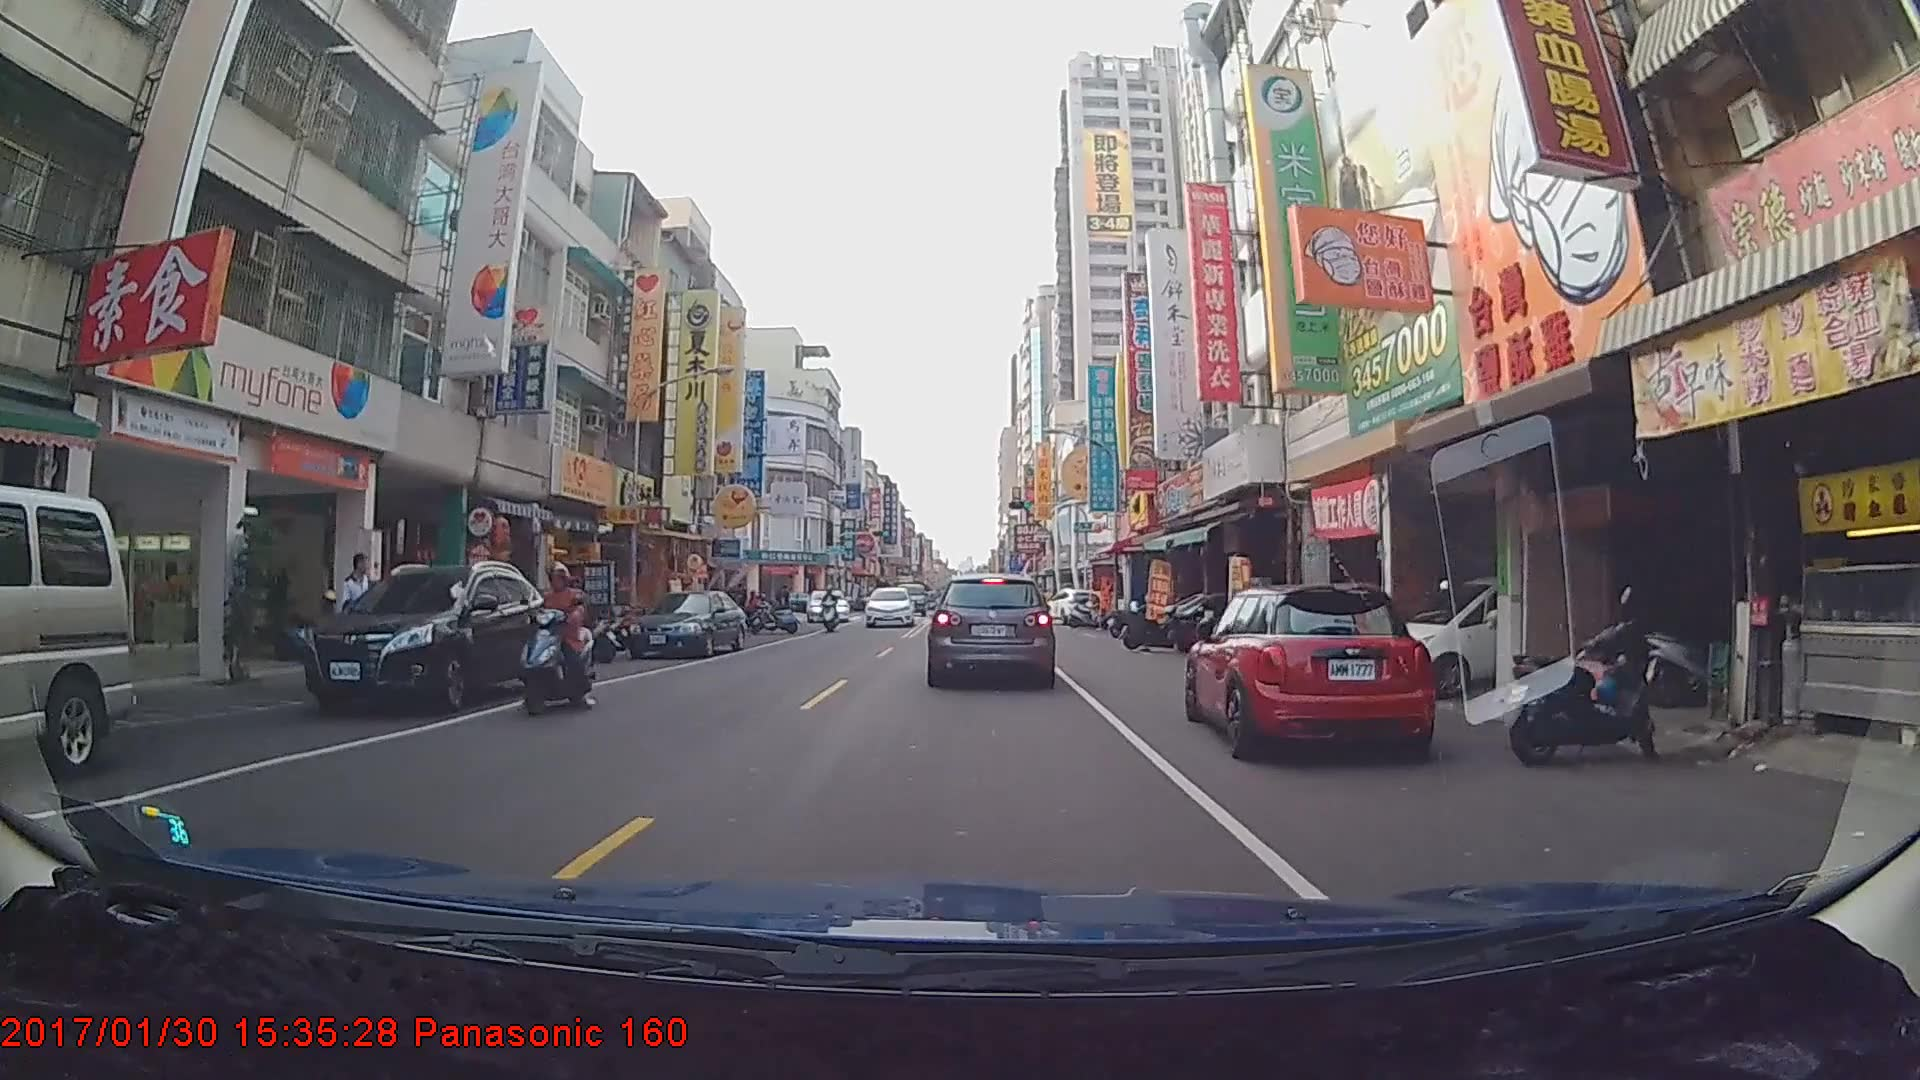rider: (517, 558, 599, 716), (818, 581, 846, 631)
vehicle: (1184, 577, 1431, 756), (301, 559, 554, 717), (0, 480, 134, 776), (930, 570, 1054, 685), (621, 587, 745, 657), (862, 584, 915, 626), (1039, 581, 1097, 620), (805, 586, 848, 618)
